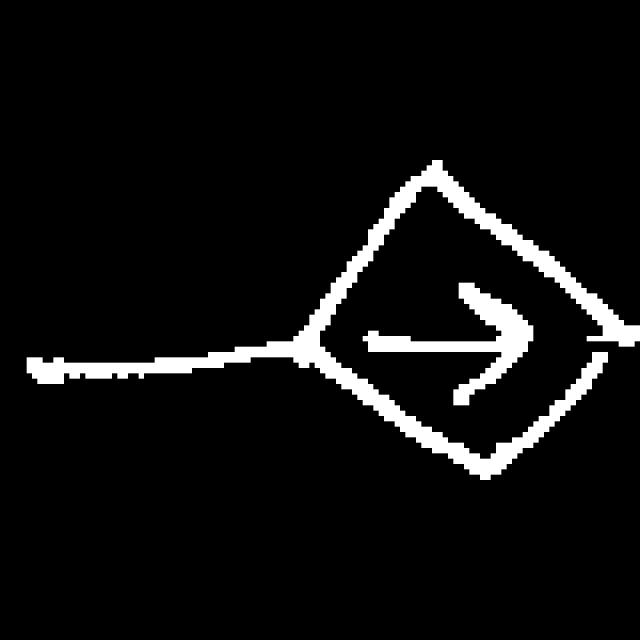dependant_current: (293, 155, 640, 485)
